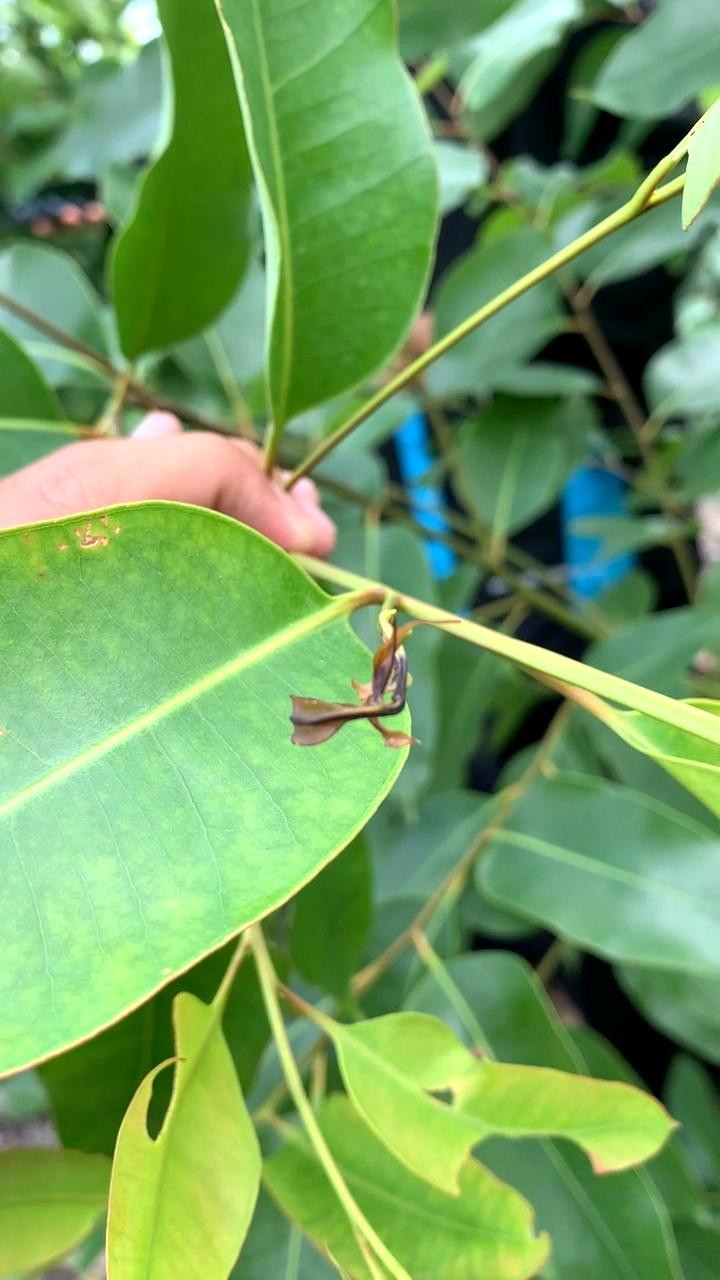Helopeltis-Withered Sprout: (275, 588, 473, 797)
